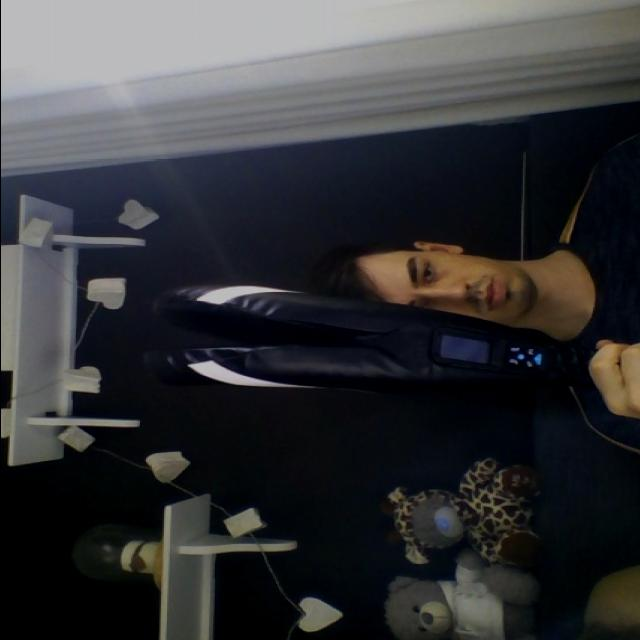paddle: (136, 281, 600, 399)
